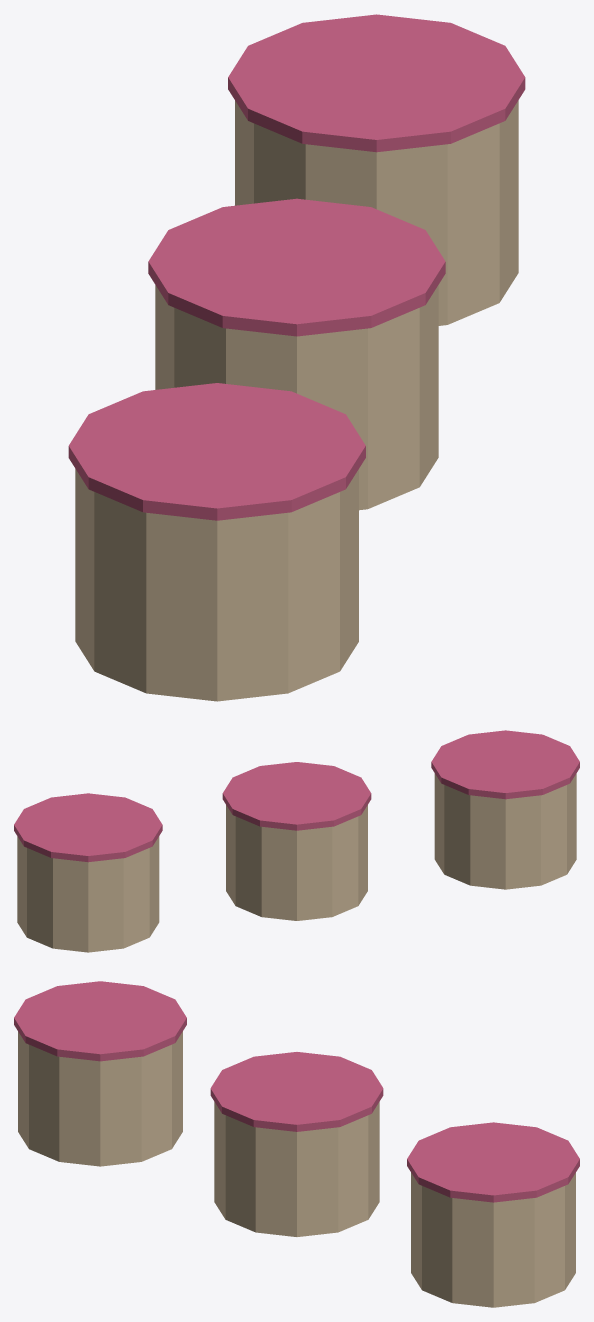
File: Candyland_PeppermintBumpers_Simple.glb
3 views of the same model, one above another, from view 1: azimuth 30°, elevation 25°; view 2: azimuth 150°, elevation 25°; view 3: azimuth 270°, elevation 25° (orthographic). The views are drawn at different scales.
Visible parts, largest first — view 1: Candyland_PeppermintBumpers_Simple; view 2: Candyland_PeppermintBumpers_Simple; view 3: Candyland_PeppermintBumpers_Simple.
Part boxes in pixels (x1,y1,x2,y2): Candyland_PeppermintBumpers_Simple: (68,14,525,701); Candyland_PeppermintBumpers_Simple: (14,730,579,952); Candyland_PeppermintBumpers_Simple: (14,981,579,1307).
Size of the model in its own units: 2.58 by 0.64 by 2.88.
